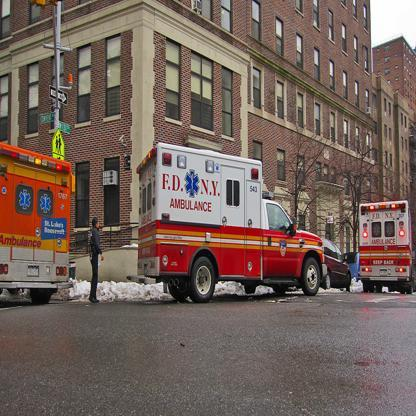fire-truck: (105, 99, 336, 343)
